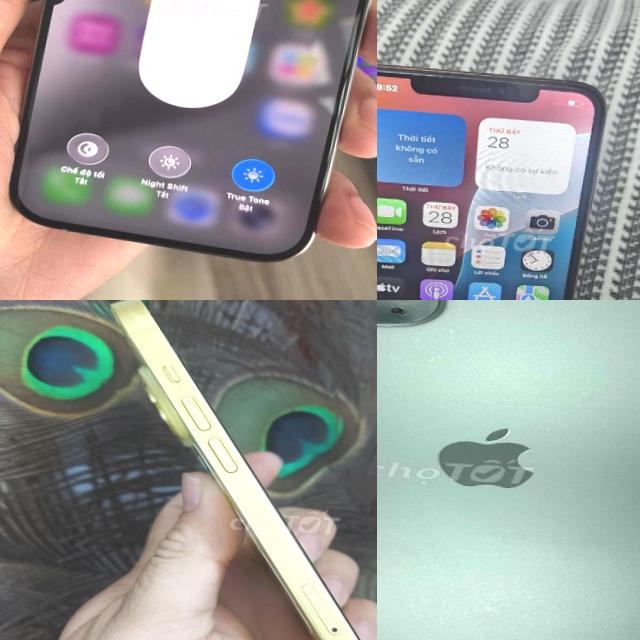gen_11: (377, 300, 640, 640)
gen_14: (87, 300, 377, 640)
gen_15: (0, 0, 377, 275)
gen_x_xs: (377, 49, 615, 300)
